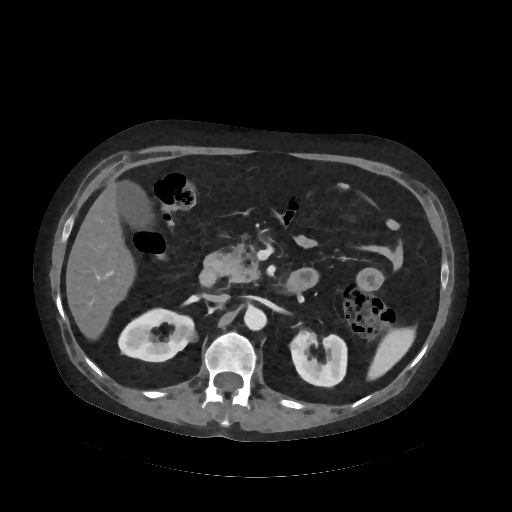Lesion: (177, 323, 201, 346)
